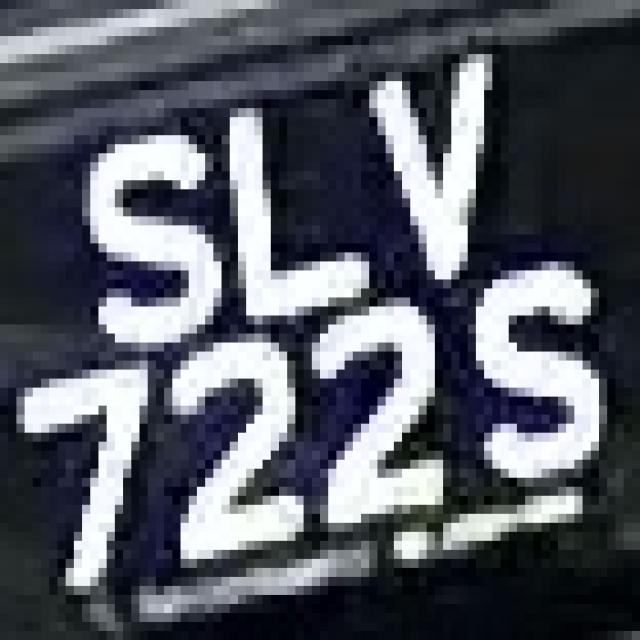2: (295, 315, 484, 595), (172, 351, 328, 550)
7: (0, 324, 181, 613)
L: (238, 90, 377, 298)
S: (468, 261, 632, 505), (57, 144, 230, 343)
V: (361, 54, 533, 271)
